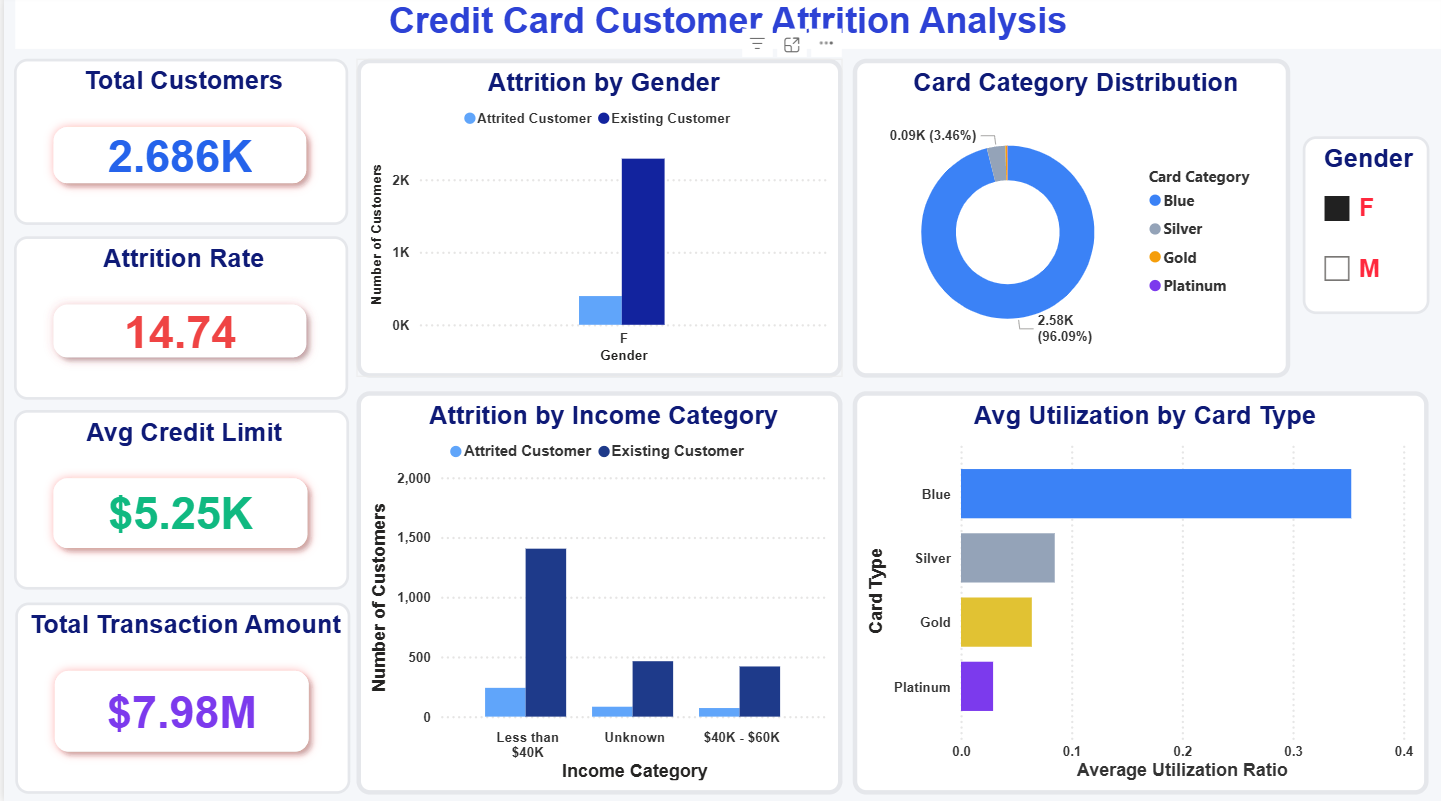

What the dashboard file says about the page in this screenshot:
{"tool":"powerbi","page":{"name":"Executive Overview","canvas":[1280,720],"ordinal":0},"visuals":[{"type":"textbox","box":[10.5,0,1269.8,47.7],"z":0},{"type":"cardVisual","title":"Total Customers","fields":{"Data":["CountNonNull(cleaned_credit_card_customers.CLIENTNUM)"]},"box":[9.3,57,297.7,147.7],"z":1000},{"type":"cardVisual","title":"Attrition Rate","fields":{"Data":["cleaned_credit_card_customers.Attrition Rate"]},"box":[9.3,215.1,297.7,145.3],"z":2000},{"type":"cardVisual","title":"Avg Credit Limit","fields":{"Data":["Avg(cleaned_credit_card_customers.Credit_Limit)"]},"box":[8.9,369.6,298.3,160.3],"z":3000},{"type":"cardVisual","title":"Total Transaction Amount","fields":{"Data":["Sum(cleaned_credit_card_customers.Total_Trans_Amt)"]},"box":[10,541,298.3,170.3],"z":4000},{"type":"slicer","title":"Gender","fields":{"Values":["cleaned_credit_card_customers.Gender"]},"box":[1093.3,56.7,178.3,147.5],"z":5000},{"type":"clusteredColumnChart","title":"Attrition by Gender","fields":{"Series":["cleaned_credit_card_customers.Attrition_Flag"],"Category":["cleaned_credit_card_customers.Gender"],"Y":["CountNonNull(cleaned_credit_card_customers.CLIENTNUM)"]},"box":[314,57,432.6,283.7],"z":6000},{"type":"clusteredColumnChart","title":"Attrition by Income Category","fields":{"Category":["cleaned_credit_card_customers.Income_Category"],"Y":["CountNonNull(cleaned_credit_card_customers.CLIENTNUM)"],"Series":["cleaned_credit_card_customers.Attrition_Flag"]},"box":[314,352.3,432.6,359.3],"z":7000},{"type":"donutChart","title":"Card Category Distribution","fields":{"Category":["cleaned_credit_card_customers.Card_Category"],"Y":["CountNonNull(cleaned_credit_card_customers.CLIENTNUM)"]},"box":[755,56.7,320,283.3],"z":8000},{"type":"clusteredBarChart","title":"Avg Utilization by Card Type","fields":{"Category":["cleaned_credit_card_customers.Card_Category"],"Y":["Avg(cleaned_credit_card_customers.Avg_Utilization_Ratio)"]},"box":[755.8,352.3,512.8,359.3],"z":9000},{"type":"slicer","fields":{"Values":["cleaned_credit_card_customers.Attrition_Flag"]},"box":[1086.7,229.2,185,110.8],"z":10000}]}

Visuals, with their boxes in screenshot pixels (x1, y1, x2, y2), scaled from the page's 1280x720 canvas onto the 1441x801 screenshot:
textbox: [left=12, top=0, right=1440, bottom=53]
"Total Customers" cardVisual: [left=10, top=63, right=346, bottom=228]
"Attrition Rate" cardVisual: [left=10, top=239, right=346, bottom=401]
"Avg Credit Limit" cardVisual: [left=10, top=411, right=346, bottom=590]
"Total Transaction Amount" cardVisual: [left=11, top=602, right=347, bottom=791]
"Gender" slicer: [left=1231, top=63, right=1432, bottom=227]
"Attrition by Gender" clusteredColumnChart: [left=353, top=63, right=841, bottom=379]
"Attrition by Income Category" clusteredColumnChart: [left=353, top=392, right=841, bottom=792]
"Card Category Distribution" donutChart: [left=850, top=63, right=1210, bottom=378]
"Avg Utilization by Card Type" clusteredBarChart: [left=851, top=392, right=1428, bottom=792]
slicer - cleaned_credit_card_customers.Attrition_Flag: [left=1223, top=255, right=1432, bottom=378]
